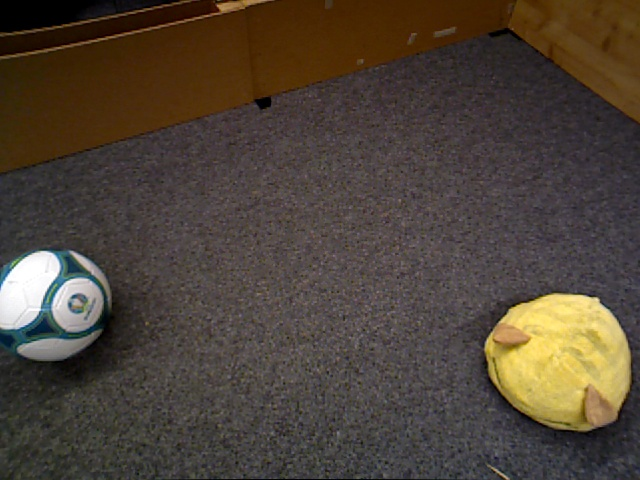grasp: (483, 290, 632, 435)
kick: (1, 246, 113, 363)
